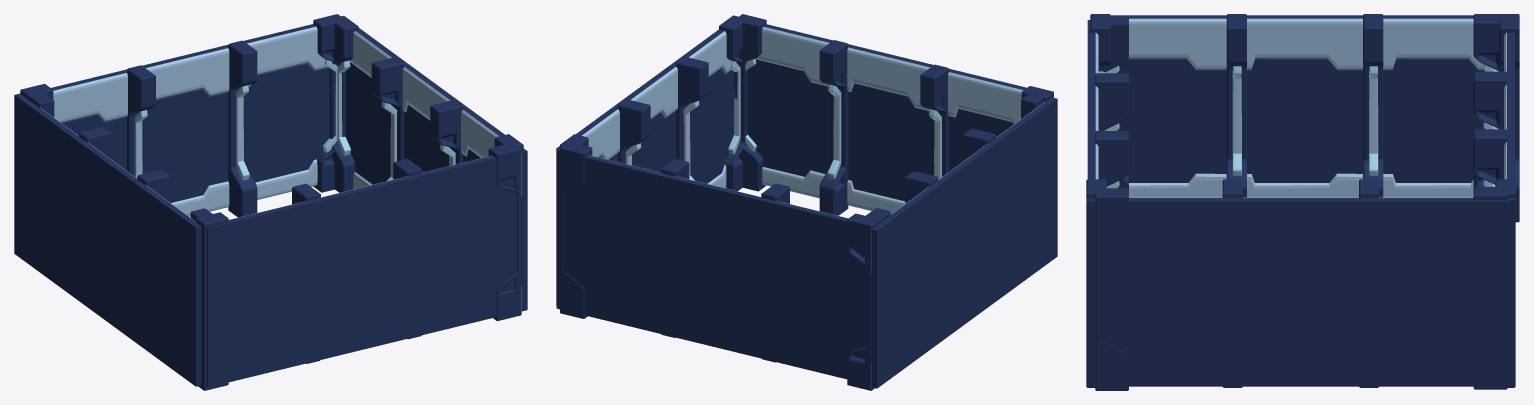
File: SlantedRoomWalls.fbx
3 views of the same model, side by side, from view 1: azimuth 30°, elevation 25°; view 2: azimuth 150°, elevation 25°; view 3: azimuth 270°, elevation 25° (orthographic). The views are drawn at different scales.
Parts seen in each view (by area): view 1: Wall3.003, Wall3.001, Wall3.004, Wall3.002, Ridge_outside.004, Ridge_outside.002, Ridge_outside.001, Ridge_outside.003; view 2: Wall3.004, Wall3.001, Wall3.003, Wall3.002, Ridge_outside.003, Ridge_outside.002, Ridge_outside.001, Ridge_outside.004; view 3: Wall3.002, Wall3.001, Ridge_outside.001, Ridge_outside.003, Ridge_outside.004, Wall3.004, Ridge_outside.002, Wall3.003.
Boxes of the visible parts, x1,y1,x2,y2 form: Wall3.003: (207, 155, 516, 387); Wall3.001: (14, 93, 201, 386); Wall3.004: (51, 24, 329, 216); Wall3.002: (346, 28, 527, 311); Ridge_outside.004: (27, 16, 358, 217); Ridge_outside.002: (313, 14, 521, 321); Ridge_outside.001: (20, 83, 228, 390); Ridge_outside.003: (190, 134, 523, 363); Wall3.004: (556, 148, 867, 379); Wall3.001: (871, 97, 1057, 388); Wall3.003: (746, 24, 1026, 214); Wall3.002: (556, 29, 734, 305); Ridge_outside.003: (719, 15, 1047, 215); Ridge_outside.002: (560, 14, 766, 318); Ridge_outside.001: (847, 86, 1053, 390); Ridge_outside.004: (560, 134, 890, 362); Wall3.002: (1086, 197, 1509, 386); Wall3.001: (1111, 15, 1484, 197); Ridge_outside.001: (1090, 14, 1519, 222); Ridge_outside.003: (1095, 15, 1128, 390); Ridge_outside.004: (1473, 14, 1507, 389); Wall3.004: (1504, 32, 1514, 384); Ridge_outside.002: (1086, 179, 1515, 387); Wall3.003: (1087, 20, 1098, 179).
Size of the model in its own units: 10467 by 5113 by 10306.
